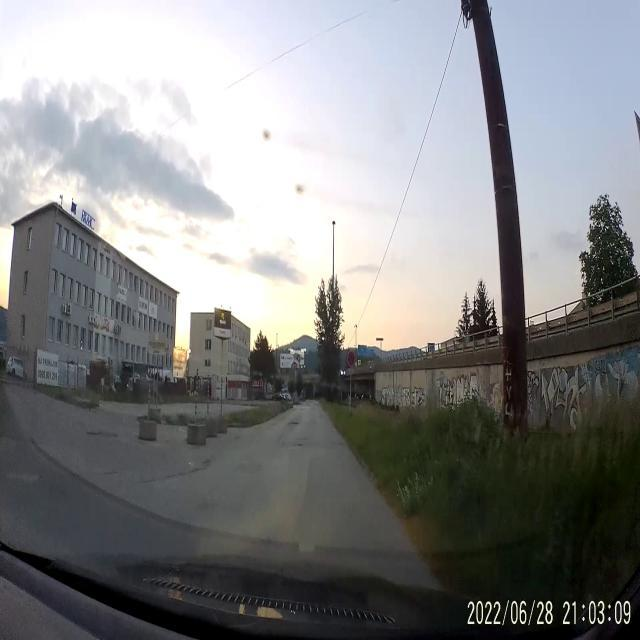Pothole: (289, 440, 312, 456), (287, 415, 302, 432)
